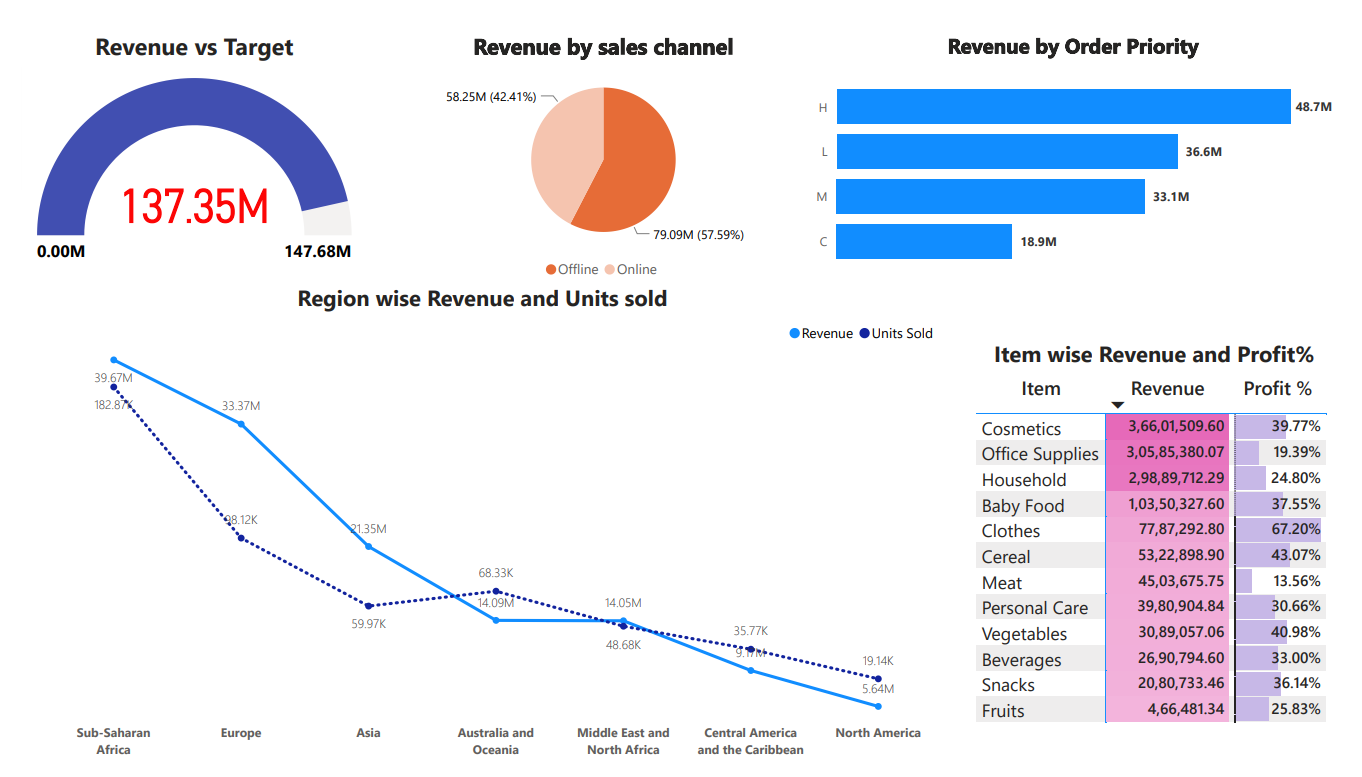

This screenshot's page, from the dashboard's own definition file:
{"tool":"powerbi","page":{"name":"Revenue","canvas":[1280,720],"ordinal":2},"visuals":[{"type":"gauge","title":"Revenue vs Target","fields":{"Y":["Measure Table.Total Revenue"],"MaxValue":["Measure Table.Rev Tgt"]},"box":[10,6.7,280,233.3],"z":0},{"type":"lineChart","title":"Region wise Revenue and Units sold","fields":{"Category":["Amazon Sales data.Region"],"Y":["Measure Table.Total Revenue"],"Y2":["Sum(Amazon Sales data.Units Sold)"]},"box":[0,251.1,897.2,469.9],"z":1000},{"type":"pieChart","title":"Revenue by sales channel","fields":{"Category":["Amazon Sales data.Sales Channel"],"Y":["Sum(Amazon Sales data.Total Revenue)"]},"box":[373.3,1.7,361.7,250],"z":2000},{"type":"clusteredBarChart","title":"Revenue by Order Priority","fields":{"Category":["Amazon Sales data.Order Priority"],"Y":["Sum(Amazon Sales data.Total Revenue)"]},"box":[765.6,6.1,514.4,245.1],"z":3000},{"type":"pivotTable","title":"Item wise Revenue and Profit%","fields":{"Rows":["Amazon Sales data.Item Type"],"Values":["Sum(Amazon Sales data.Total Revenue)","Measure Table.Profit %"]},"box":[916.7,305,363.3,385],"z":4000}]}

Visuals, with their boxes in screenshot pixels (x1, y1, x2, y2), scaled from the page's 1280x720 canvas onto the 1362x777 screenshot:
"Revenue vs Target" gauge: Rect(11, 7, 309, 259)
"Region wise Revenue and Units sold" lineChart: Rect(0, 271, 955, 776)
"Revenue by sales channel" pieChart: Rect(397, 2, 782, 272)
"Revenue by Order Priority" clusteredBarChart: Rect(815, 7, 1361, 271)
"Item wise Revenue and Profit%" pivotTable: Rect(975, 329, 1361, 745)
